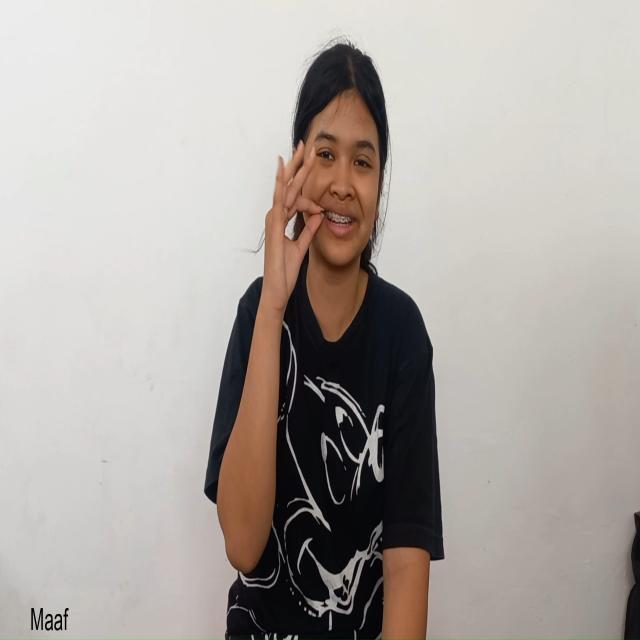Maaf -BISINDO-: (254, 36, 409, 368)
